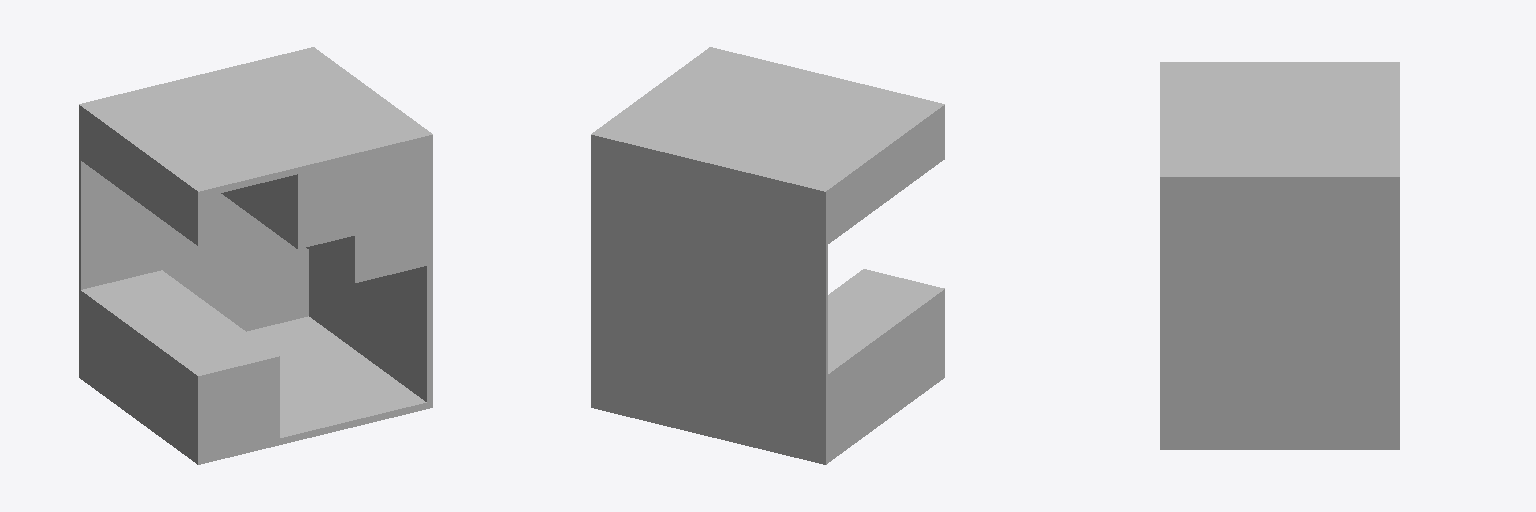
The model's file is elevator_collisions.vmf.obj.
The picture shows the model from 3 angles: view 1: azimuth 30°, elevation 25°; view 2: azimuth 150°, elevation 25°; view 3: azimuth 270°, elevation 25°; orthographic projection.
Parts seen in each view (by area): view 1: 298, 307, 308, 299, 306, 302, 297, 300; view 2: 308, 298, 307, 297, 306; view 3: 302, 298, 299, 300, 308, 297.
Boxes of the visible parts, x1=… form: 298: x1=88, y1=48, x2=432, y2=196; 307: x1=81, y1=270, x2=279, y2=457; 308: x1=79, y1=47, x2=314, y2=378; 299: x1=221, y1=142, x2=432, y2=248; 306: x1=81, y1=316, x2=426, y2=464; 302: x1=309, y1=250, x2=432, y2=408; 297: x1=81, y1=104, x2=204, y2=245; 300: x1=306, y1=217, x2=432, y2=282; 308: x1=591, y1=133, x2=827, y2=464; 298: x1=593, y1=47, x2=937, y2=188; 307: x1=828, y1=269, x2=944, y2=455; 297: x1=822, y1=103, x2=944, y2=243; 306: x1=828, y1=371, x2=944, y2=462; 302: x1=1160, y1=307, x2=1395, y2=449; 298: x1=1160, y1=65, x2=1395, y2=183; 299: x1=1160, y1=184, x2=1395, y2=258; 300: x1=1160, y1=259, x2=1395, y2=306; 308: x1=1396, y1=62, x2=1399, y2=449; 297: x1=1160, y1=62, x2=1395, y2=64.
Bounding box in the file's own units: 144 × 160 × 127.